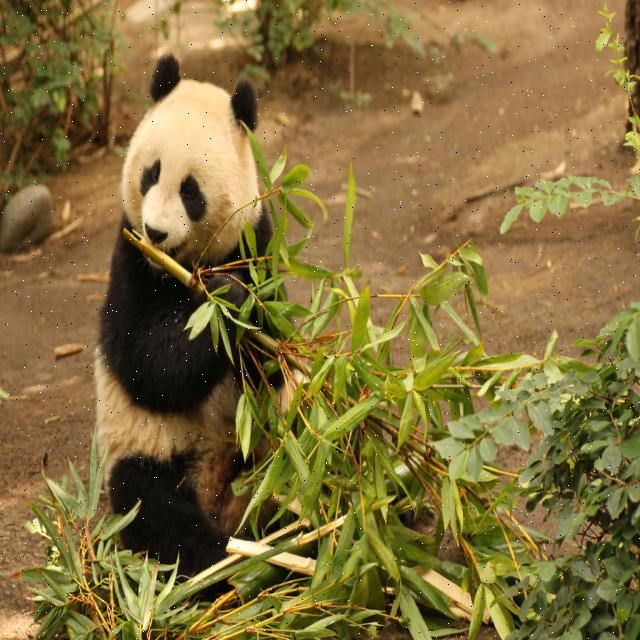panda: (92, 49, 352, 605)
